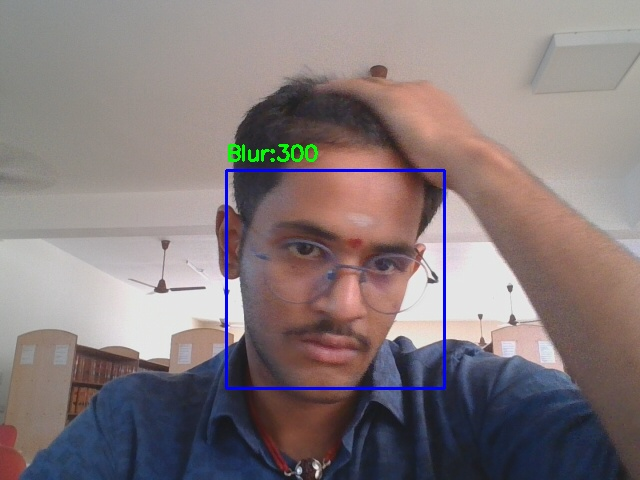real: (226, 170, 444, 388)
